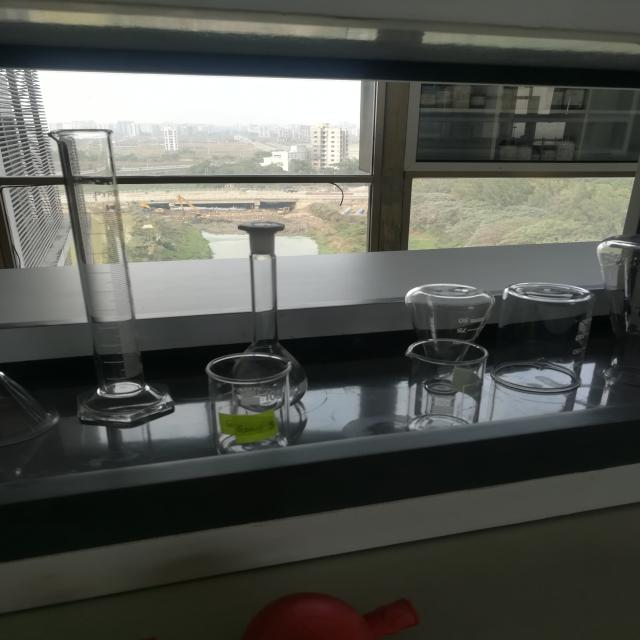Beaker: (495, 247, 604, 402), (188, 336, 306, 454), (385, 333, 504, 448)
Measuring_Cylinder: (33, 99, 178, 439)
